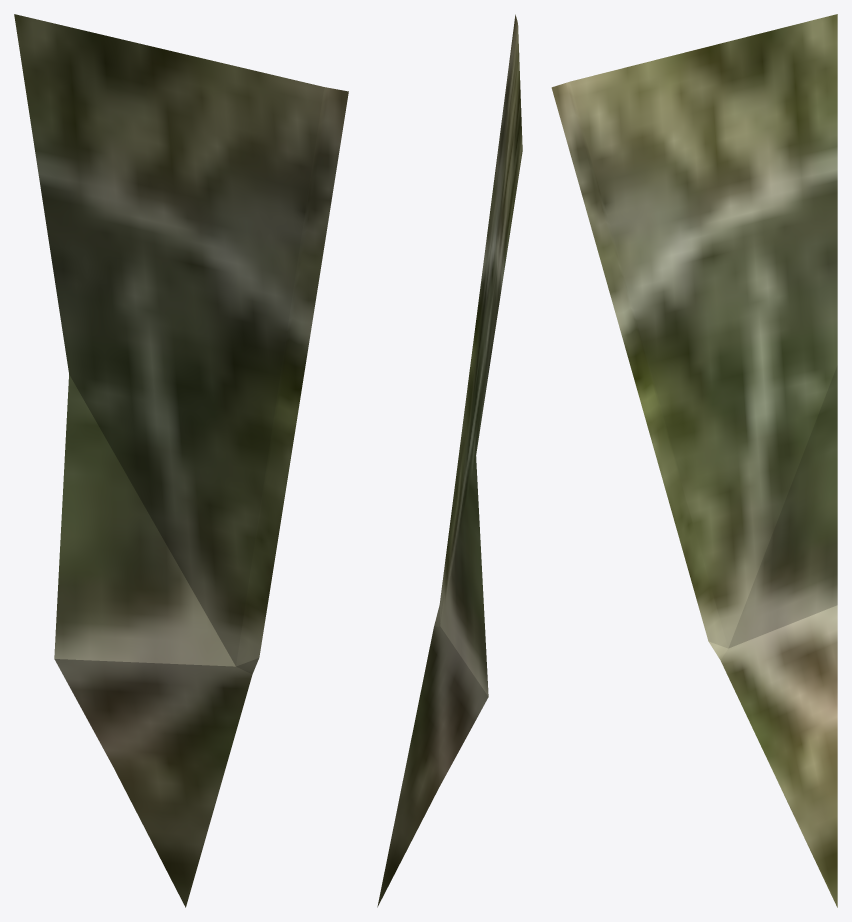
The picture shows the model from 3 angles, left to right: view 1: azimuth 30°, elevation 25°; view 2: azimuth 150°, elevation 25°; view 3: azimuth 270°, elevation 25°; orthographic projection. The views are drawn at different scales.
Bounding box in the file's own units: 0.1742 × 0.9076 × 0.2867.
1 material, 1 textured.
